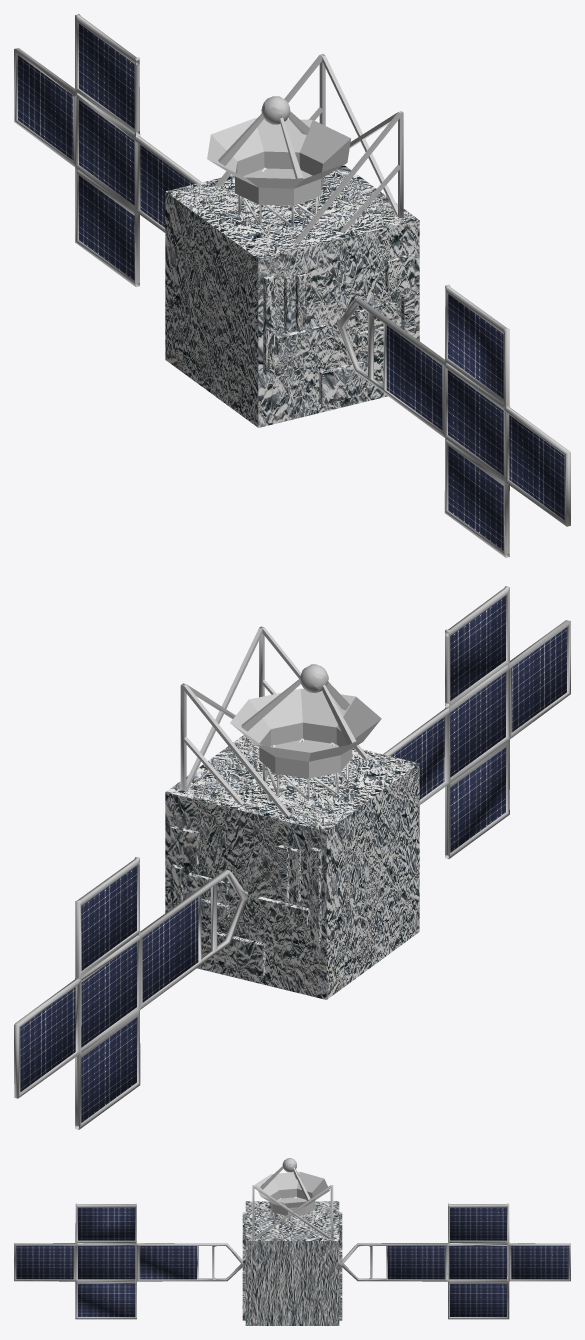
The model's file is finalShipLowPoly.fbx.
3 renders of one model, top to bottom at view 1: azimuth 30°, elevation 25°; view 2: azimuth 150°, elevation 25°; view 3: azimuth 270°, elevation 25°, orthographic. The views are drawn at different scales.
Visible parts, largest first — view 1: Cube.001, Cube.002, Circle.001; view 2: Cube.001, Cube.002, Circle.001; view 3: Cube.002, Cube.001, Circle.001.
Boxes of the visible parts, box(x1,y1,x2,y2) form: Cube.001: box(165, 165, 419, 427); Cube.002: box(18, 23, 564, 550); Circle.001: box(14, 14, 570, 557); Cube.001: box(165, 735, 419, 999); Cube.002: box(20, 595, 566, 1122); Circle.001: box(14, 586, 570, 1129); Cube.002: box(16, 1207, 568, 1316); Cube.001: box(242, 1201, 342, 1325); Circle.001: box(14, 1158, 570, 1319).
Size of the model in its own units: 200 by 367 by 1189.
